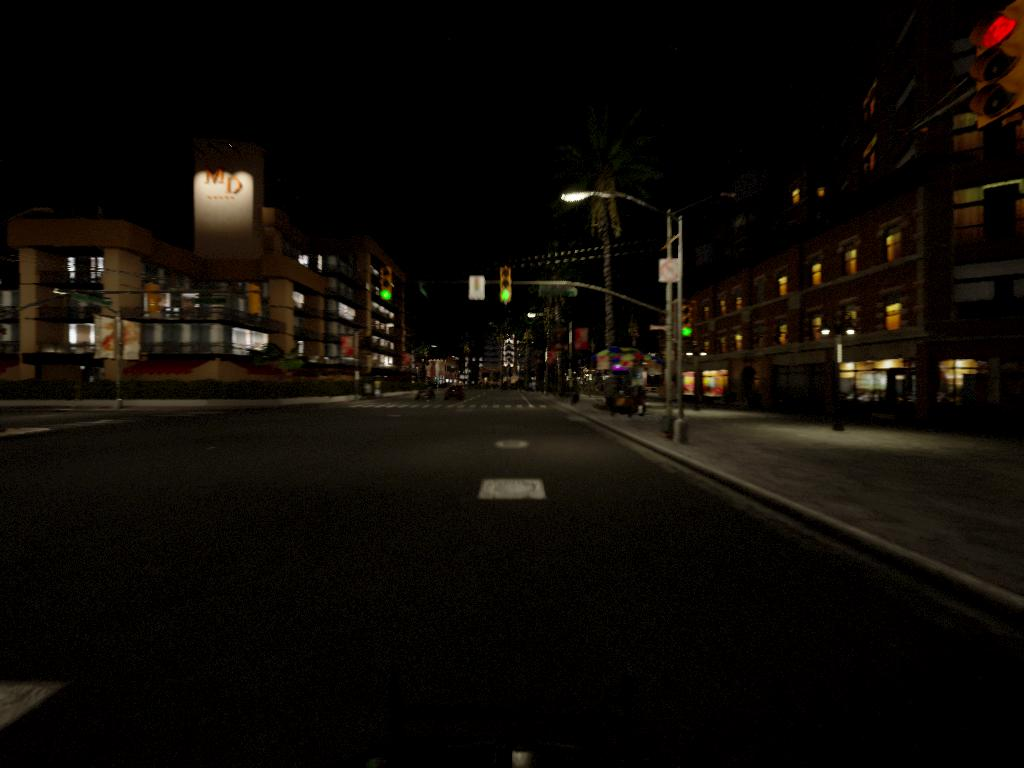traffic_light: (377, 264, 395, 305), (680, 303, 694, 342), (499, 270, 514, 306)
